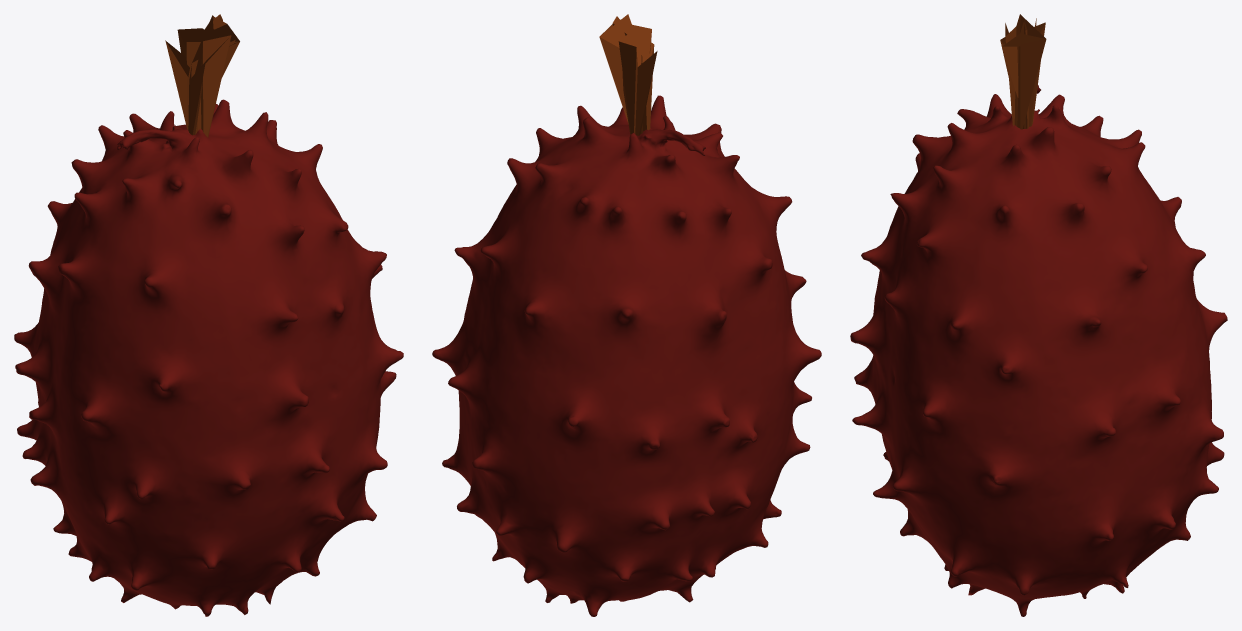
File: Fruit_Oran.fbx
The picture shows the model from 3 angles, left to right: view 1: azimuth 30°, elevation 25°; view 2: azimuth 150°, elevation 25°; view 3: azimuth 270°, elevation 25°; orthographic projection. The views are drawn at different scales.
Parts seen in each view (by area): view 1: kiwano_rigsters, Cylinder; view 2: kiwano_rigsters, Cylinder; view 3: kiwano_rigsters, Cylinder.
Part boxes in pixels (x1,y1,x2,y2): kiwano_rigsters: (14, 99, 403, 616); Cylinder: (165, 14, 239, 137); kiwano_rigsters: (432, 95, 821, 616); Cylinder: (599, 14, 657, 135); kiwano_rigsters: (850, 85, 1227, 616); Cylinder: (1000, 14, 1046, 129).
Size of the model in its own units: 299 by 499 by 297.
